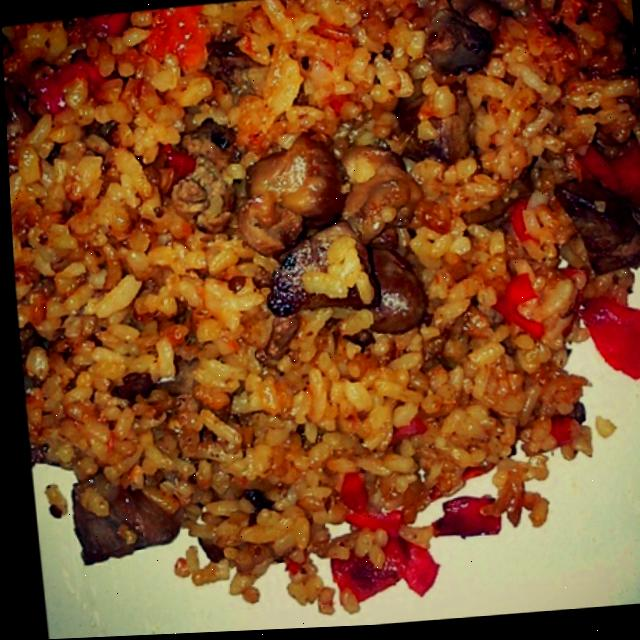米饭主食: (10, 0, 640, 640)
